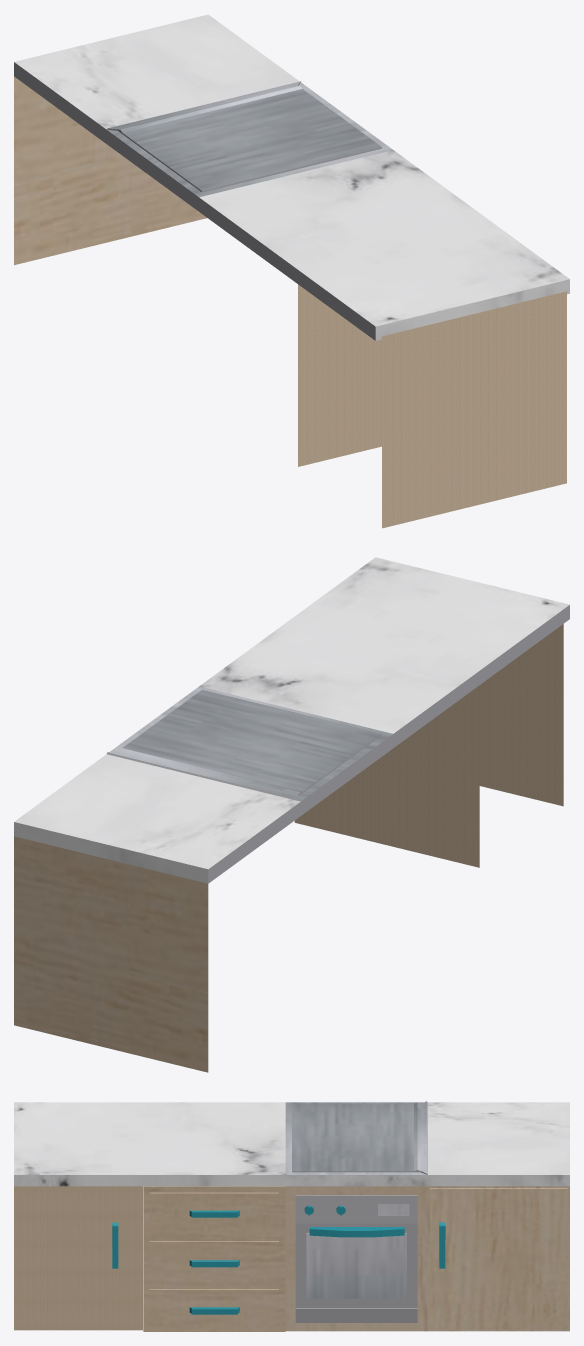
Rendered from EstufaGrande.obj.
3 renders of one model, top to bottom at view 1: azimuth 30°, elevation 25°; view 2: azimuth 150°, elevation 25°; view 3: azimuth 270°, elevation 25°, orthographic. The views are drawn at different scales.
Parts seen in each view (by area): view 1: polySurface71; view 2: polySurface71; view 3: polySurface71.
Part boxes in pixels (x1,y1,x2,y2): polySurface71: [14, 14, 569, 528]; polySurface71: [14, 557, 569, 1072]; polySurface71: [14, 1101, 569, 1331].
Size of the model in its own units: 2.74 by 2.56 by 8.14.
5 materials, 5 textured.
